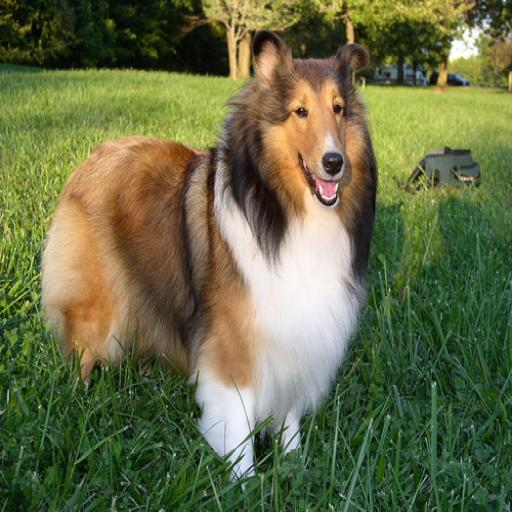dog_face: (232, 34, 372, 236)
